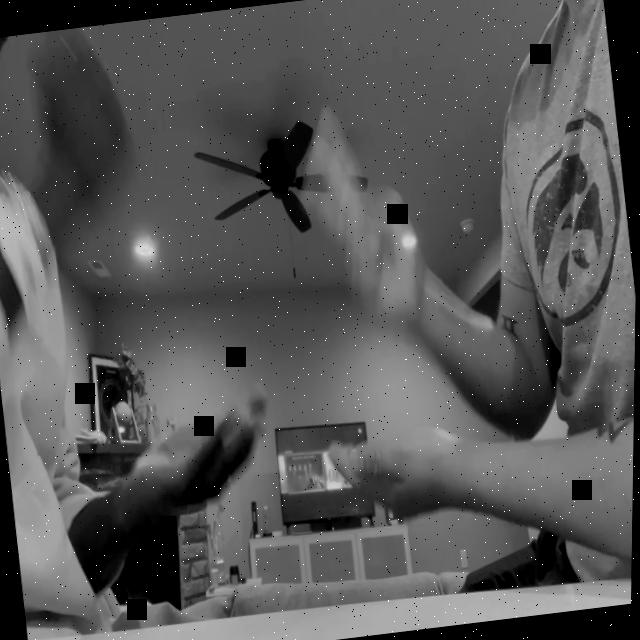Rock: (30, 28, 145, 214)
Scissors: (297, 106, 433, 344)
